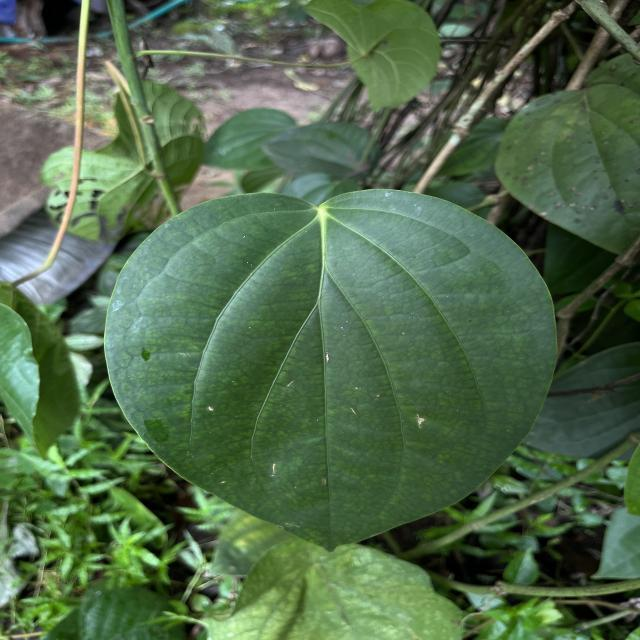Piper nigrum: (101, 184, 564, 554)
